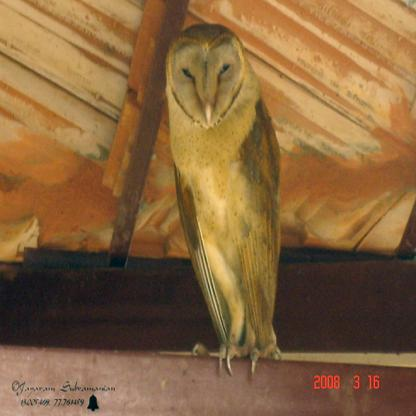Burung: (164, 21, 288, 371)
